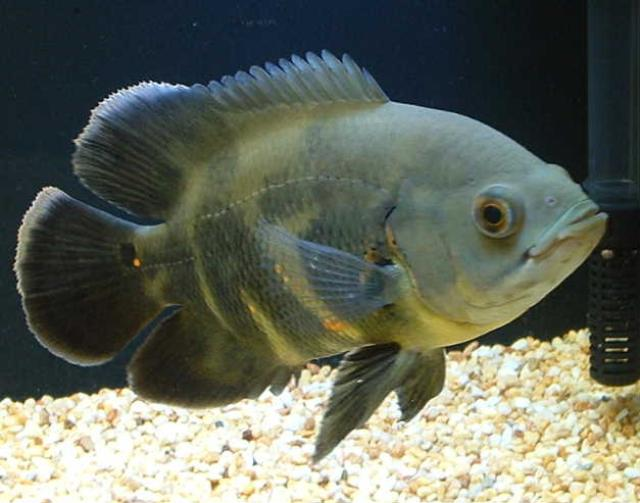Mulut: (539, 164, 615, 278)
Sirip Anal: (124, 305, 260, 418)
Sirip Dada: (248, 201, 404, 354)
Sirip Ekor: (12, 177, 142, 378)
Sirip Perut: (306, 338, 450, 470)
Sirip Punggung: (68, 35, 386, 226)
